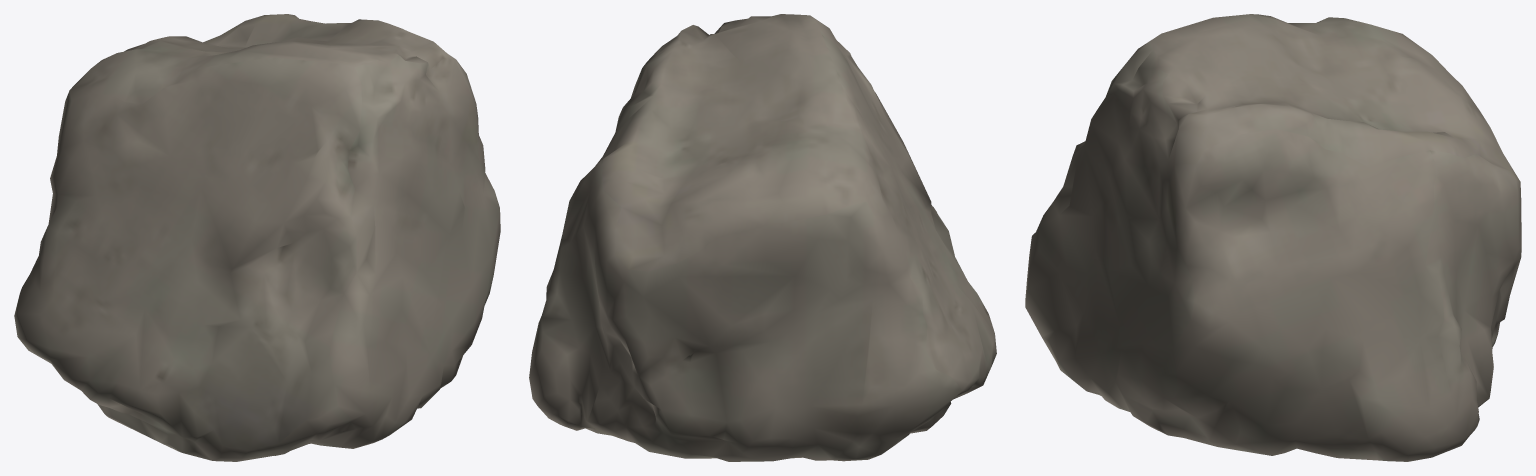
File: moon_rock_02_lod1.glb
3 renders of one model, left to right at view 1: azimuth 30°, elevation 25°; view 2: azimuth 150°, elevation 25°; view 3: azimuth 270°, elevation 25°, orthographic. The views are drawn at different scales.
Parts seen in each view (by area): view 1: moon_rock_02_LOD0; view 2: moon_rock_02_LOD0; view 3: moon_rock_02_LOD0.
Part boxes in pixels (x1,y1,x2,y2): moon_rock_02_LOD0: (14, 14, 500, 461); moon_rock_02_LOD0: (529, 14, 996, 461); moon_rock_02_LOD0: (1025, 14, 1521, 461).
Size of the model in its own units: 0.2465 by 0.2019 by 0.2513.
1 material, 1 textured.
